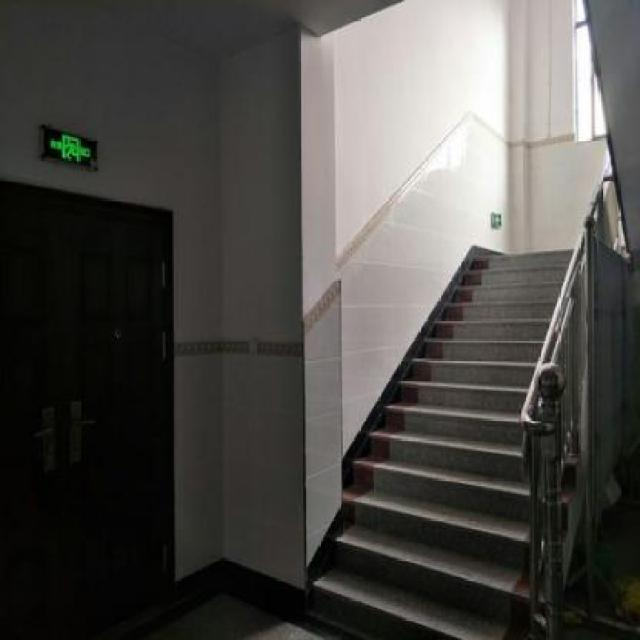exit_sign: (38, 117, 107, 171)
